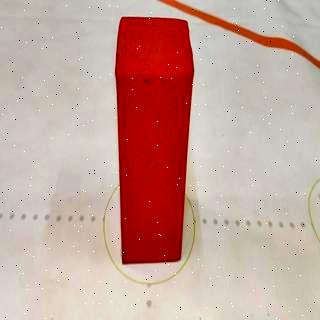redbox: (114, 15, 194, 264)
